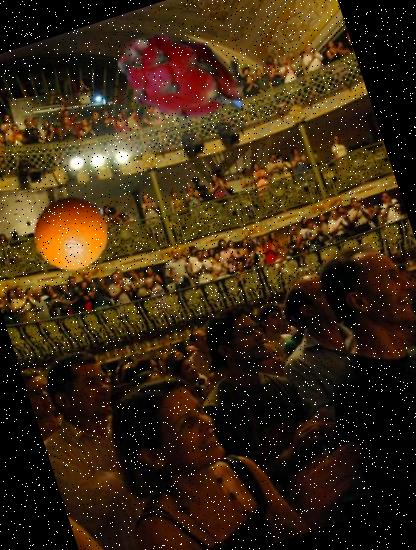Orange: (24, 184, 121, 280)
Pitahaya: (100, 4, 259, 163)
